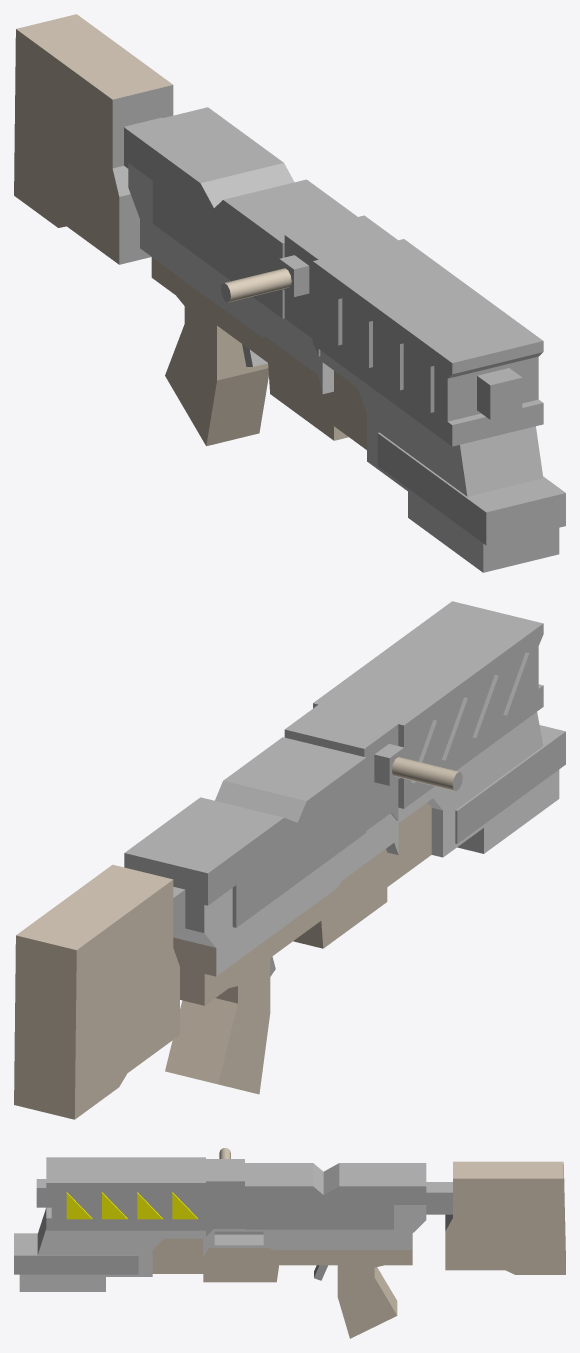
Rendered from SMG Launcher.fbx.
3 renders of one model, top to bottom at view 1: azimuth 30°, elevation 25°; view 2: azimuth 150°, elevation 25°; view 3: azimuth 270°, elevation 25°, orthographic. The views are drawn at different scales.
Visible parts, largest first — view 1: Rocket SMG; view 2: Rocket SMG; view 3: Rocket SMG.
Part boxes in pixels (x1,y1,x2,y2): Rocket SMG: [14, 14, 565, 572]; Rocket SMG: [14, 601, 565, 1119]; Rocket SMG: [14, 1148, 565, 1338].
Bounding box in the file's own units: 218 × 354 × 1098.
